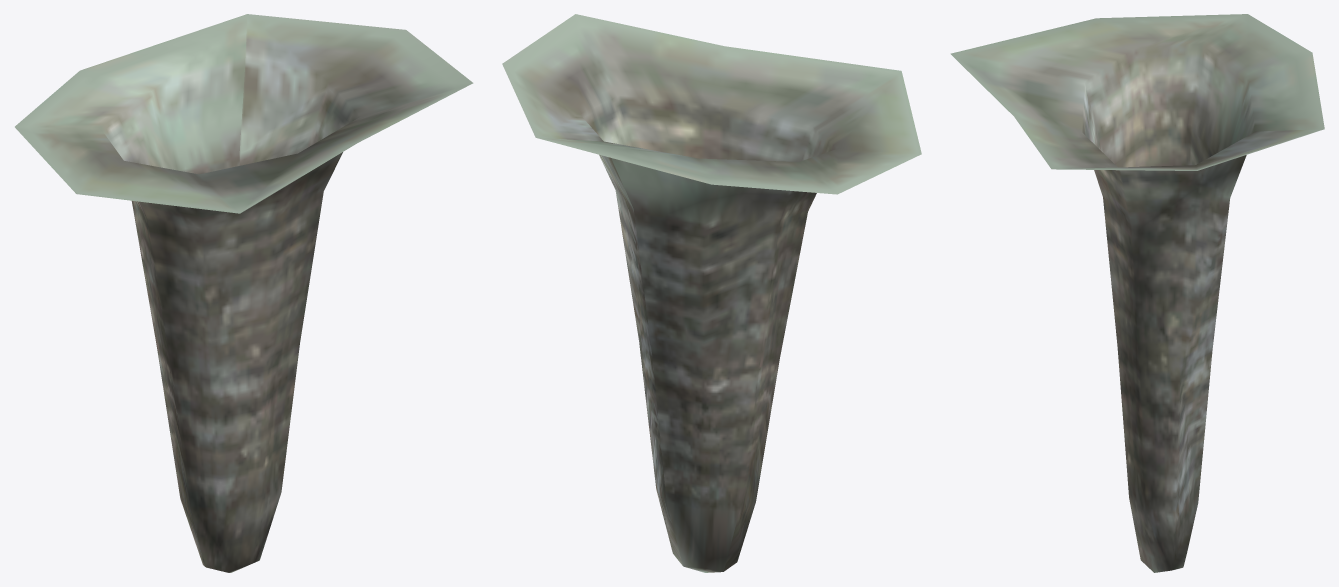
File: TROLLHOLE02_PS-MAINSTALAG73.fbx
3 views of the same model, side by side, from view 1: azimuth 30°, elevation 25°; view 2: azimuth 150°, elevation 25°; view 3: azimuth 270°, elevation 25° (orthographic). The views are drawn at different scales.
Visible parts, largest first — view 1: TROLLHOLE02_PS-MAINSTALAG73; view 2: TROLLHOLE02_PS-MAINSTALAG73; view 3: TROLLHOLE02_PS-MAINSTALAG73.
Part boxes in pixels (left/top/right/bottom): TROLLHOLE02_PS-MAINSTALAG73: left=15, top=14, right=473, bottom=572; TROLLHOLE02_PS-MAINSTALAG73: left=502, top=14, right=921, bottom=572; TROLLHOLE02_PS-MAINSTALAG73: left=950, top=14, right=1324, bottom=572.
Size of the model in its own units: 21461 by 26214 by 17947.
Materials: 1 (1 with a texture image).
